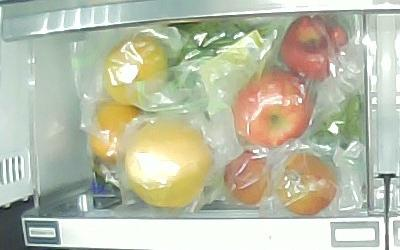apple_vinyl: (233, 68, 314, 147), (279, 14, 348, 80)
grapefruit_vinyl: (125, 119, 213, 207)
persimmon_vinyl: (104, 35, 169, 104), (89, 100, 148, 160)
prune_vinyl: (277, 153, 336, 216), (225, 150, 271, 206)
